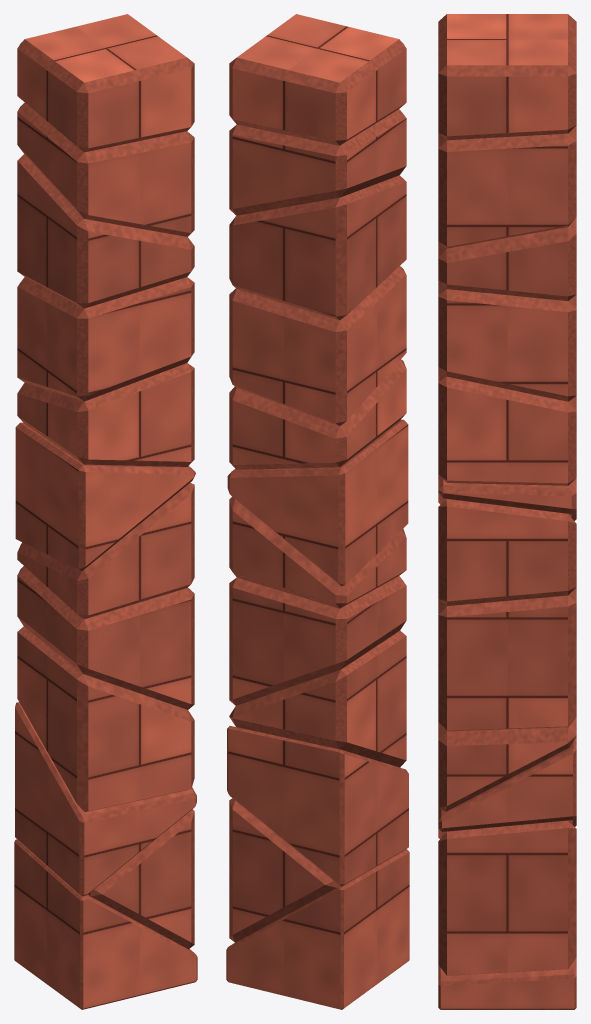
The model's file is Kit_Brick_Joint_Fractured.glb.
3 views of the same model, side by side, from view 1: azimuth 30°, elevation 25°; view 2: azimuth 150°, elevation 25°; view 3: azimuth 270°, elevation 25° (orthographic).
Parts seen in each view (by area): view 1: Kit_Brick_Joint_frag_04, Kit_Brick_Joint_frag_12, Kit_Brick_Joint_frag_09, Kit_Brick_Joint_frag_01, Kit_Brick_Joint_frag_07, Kit_Brick_Joint_frag_10, Kit_Brick_Joint_frag_05, Kit_Brick_Joint_frag_03, Kit_Brick_Joint_frag_11, Kit_Brick_Joint_frag_08, Kit_Brick_Joint_frag_06, Kit_Brick_Joint_frag_02; view 2: Kit_Brick_Joint_frag_03, Kit_Brick_Joint_frag_09, Kit_Brick_Joint_frag_10, Kit_Brick_Joint_frag_12, Kit_Brick_Joint_frag_01, Kit_Brick_Joint_frag_07, Kit_Brick_Joint_frag_05, Kit_Brick_Joint_frag_04, Kit_Brick_Joint_frag_11, Kit_Brick_Joint_frag_08, Kit_Brick_Joint_frag_02, Kit_Brick_Joint_frag_06; view 3: Kit_Brick_Joint_frag_02, Kit_Brick_Joint_frag_05, Kit_Brick_Joint_frag_12, Kit_Brick_Joint_frag_11, Kit_Brick_Joint_frag_08, Kit_Brick_Joint_frag_09, Kit_Brick_Joint_frag_06, Kit_Brick_Joint_frag_10, Kit_Brick_Joint_frag_04, Kit_Brick_Joint_frag_03, Kit_Brick_Joint_frag_01, Kit_Brick_Joint_frag_07.
Boxes of the visible parts, box(x1,y1,x2,y2) form: Kit_Brick_Joint_frag_04: box(17, 626, 194, 811); Kit_Brick_Joint_frag_12: box(17, 14, 194, 152); Kit_Brick_Joint_frag_09: box(17, 277, 194, 401); Kit_Brick_Joint_frag_01: box(14, 839, 197, 1009); Kit_Brick_Joint_frag_07: box(15, 422, 195, 570); Kit_Brick_Joint_frag_10: box(17, 154, 194, 308); Kit_Brick_Joint_frag_05: box(17, 566, 194, 709); Kit_Brick_Joint_frag_03: box(15, 702, 196, 896); Kit_Brick_Joint_frag_11: box(17, 102, 194, 236); Kit_Brick_Joint_frag_08: box(17, 363, 194, 466); Kit_Brick_Joint_frag_06: box(17, 482, 194, 619); Kit_Brick_Joint_frag_02: box(88, 809, 194, 949); Kit_Brick_Joint_frag_03: box(227, 726, 408, 886); Kit_Brick_Joint_frag_09: box(229, 266, 406, 426); Kit_Brick_Joint_frag_10: box(229, 175, 406, 320); Kit_Brick_Joint_frag_12: box(229, 14, 406, 145); Kit_Brick_Joint_frag_01: box(226, 849, 409, 1009); Kit_Brick_Joint_frag_07: box(227, 419, 408, 586); Kit_Brick_Joint_frag_05: box(229, 576, 406, 705); Kit_Brick_Joint_frag_04: box(229, 630, 406, 767); Kit_Brick_Joint_frag_11: box(229, 109, 406, 215); Kit_Brick_Joint_frag_08: box(229, 359, 406, 469); Kit_Brick_Joint_frag_02: box(229, 798, 339, 942); Kit_Brick_Joint_frag_06: box(229, 497, 406, 608); Kit_Brick_Joint_frag_02: box(438, 820, 576, 975); Kit_Brick_Joint_frag_05: box(438, 587, 576, 731); Kit_Brick_Joint_frag_12: box(438, 14, 576, 140); Kit_Brick_Joint_frag_11: box(438, 126, 576, 248); Kit_Brick_Joint_frag_08: box(438, 367, 576, 485); Kit_Brick_Joint_frag_09: box(438, 281, 576, 401); Kit_Brick_Joint_frag_06: box(438, 499, 576, 605); Kit_Brick_Joint_frag_10: box(438, 217, 576, 301); Kit_Brick_Joint_frag_04: box(438, 717, 576, 811); Kit_Brick_Joint_frag_03: box(438, 737, 576, 838); Kit_Brick_Joint_frag_01: box(438, 957, 576, 1009); Kit_Brick_Joint_frag_07: box(438, 475, 576, 520).
Size of what is drawn, in the model's own units: 0.4 by 3 by 0.4.
Materials: 2 (2 with a texture image).
